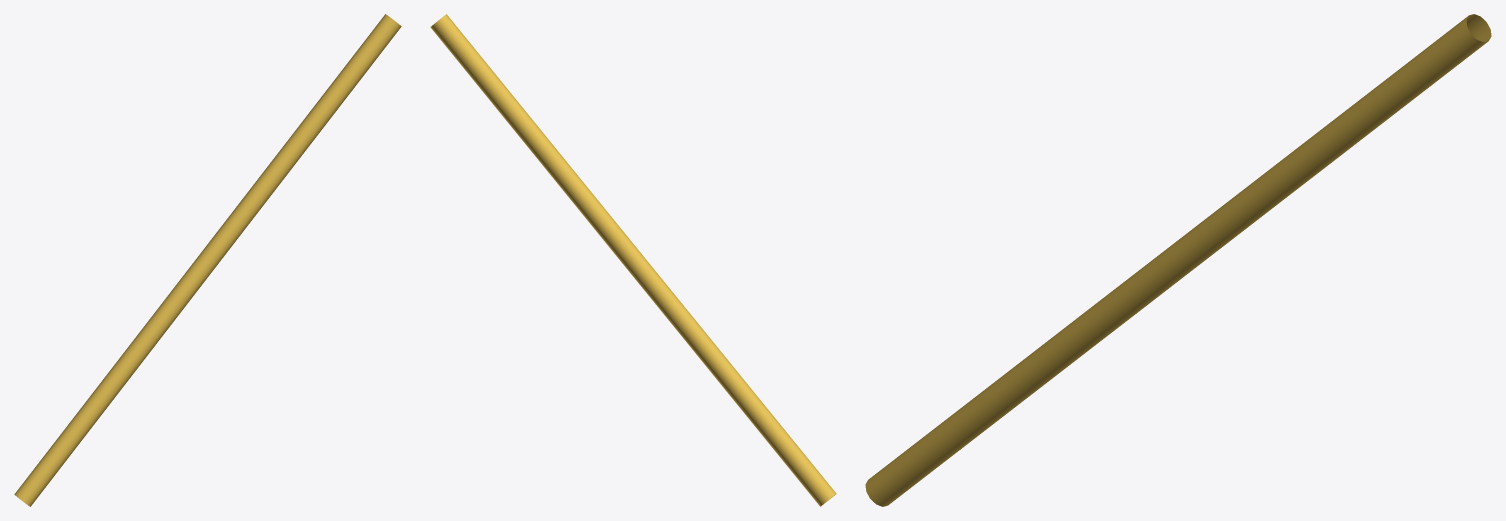
The model's file is Posterior_cord_brachial_plexus_right.glb.
The picture shows the model from 3 angles, left to right: view 1: azimuth 30°, elevation 25°; view 2: azimuth 150°, elevation 25°; view 3: azimuth 330°, elevation 25°; orthographic projection. The views are drawn at different scales.
Visible parts, largest first — view 1: Posterior_cord_of_brachial_plexus.r_BezierCurve.488; view 2: Posterior_cord_of_brachial_plexus.r_BezierCurve.488; view 3: Posterior_cord_of_brachial_plexus.r_BezierCurve.488.
Part boxes in pixels (x1=…): Posterior_cord_of_brachial_plexus.r_BezierCurve.488: x1=14, y1=14, x2=401, y2=506; Posterior_cord_of_brachial_plexus.r_BezierCurve.488: x1=430, y1=14, x2=836, y2=506; Posterior_cord_of_brachial_plexus.r_BezierCurve.488: x1=865, y1=14, x2=1491, y2=506.
Size of the model in its own units: 0.0217 by 0.0211 by 0.00159.
